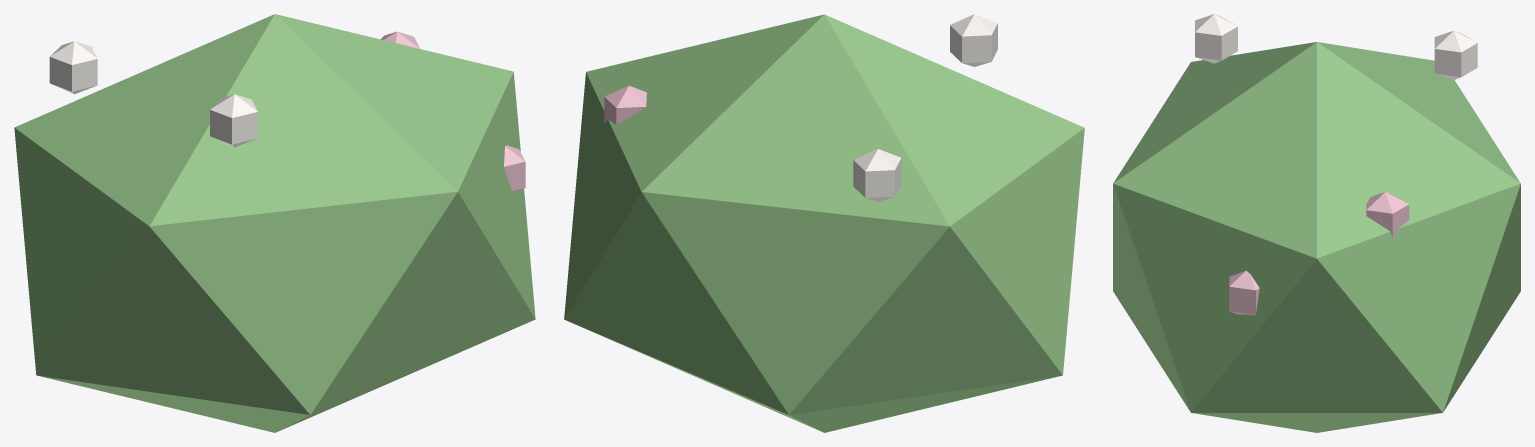
Rendered from 26_Bush_Flower.glb.
The picture shows the model from 3 angles, left to right: view 1: azimuth 30°, elevation 25°; view 2: azimuth 150°, elevation 25°; view 3: azimuth 270°, elevation 25°; orthographic projection. The views are drawn at different scales.
Parts seen in each view (by area): view 1: FlowerBush_Base, FlowerBush_Flower2, FlowerBush_Flower4, FlowerBush_Flower5; view 2: FlowerBush_Base, FlowerBush_Flower2, FlowerBush_Flower4, FlowerBush_Flower1; view 3: FlowerBush_Base, FlowerBush_Flower2, FlowerBush_Flower4, FlowerBush_Flower1, FlowerBush_Flower5.
Boxes of the visible parts, x1,y1,x2,y2 form: FlowerBush_Base: [14, 14, 535, 432]; FlowerBush_Flower2: [49, 41, 97, 94]; FlowerBush_Flower4: [210, 94, 257, 147]; FlowerBush_Flower5: [504, 145, 525, 191]; FlowerBush_Base: [564, 14, 1084, 432]; FlowerBush_Flower2: [853, 149, 901, 201]; FlowerBush_Flower4: [950, 14, 997, 66]; FlowerBush_Flower1: [604, 85, 646, 124]; FlowerBush_Base: [1113, 42, 1520, 432]; FlowerBush_Flower2: [1434, 30, 1477, 79]; FlowerBush_Flower4: [1195, 14, 1237, 63]; FlowerBush_Flower1: [1366, 192, 1409, 238]; FlowerBush_Flower5: [1229, 270, 1259, 315].
Size of the model in its own units: 0.7513 by 0.63 by 0.5954.
